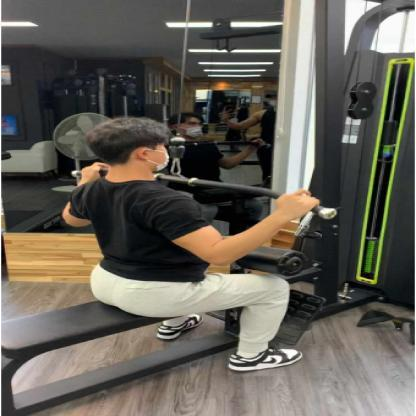Lat Pull Down: (33, 0, 416, 379)
